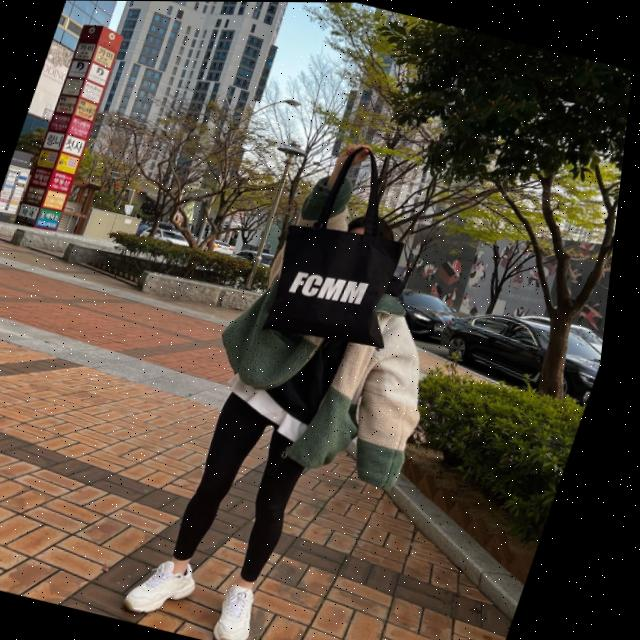ecobag: (238, 129, 461, 357)
